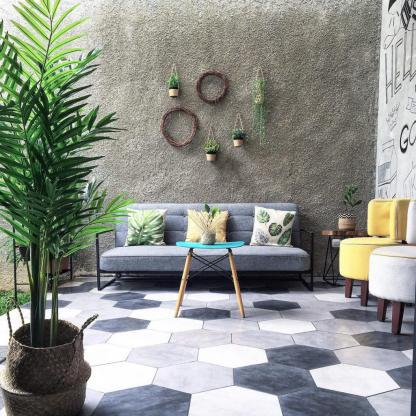bantal: (123, 207, 167, 247), (252, 207, 295, 246)
kursi: (2, 3, 98, 413)
lampu: (337, 195, 416, 334)
sova: (98, 202, 323, 292)
tanaman: (337, 185, 361, 231)
